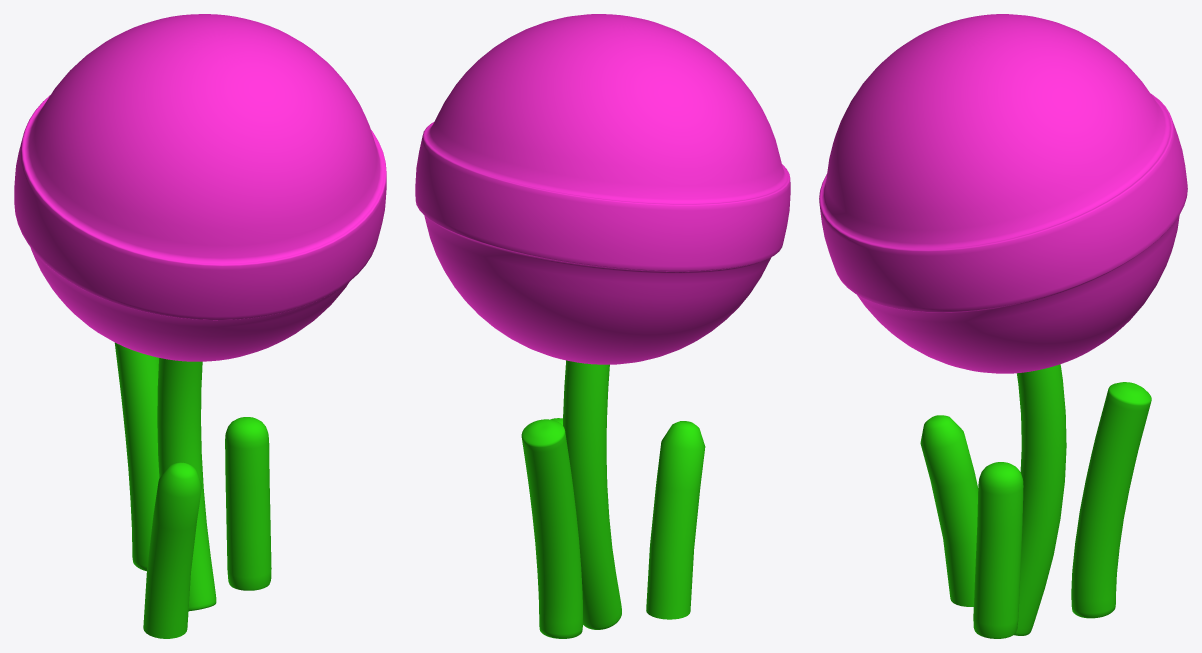
The model's file is hi_flower.fbx.
3 views of the same model, side by side, from view 1: azimuth 30°, elevation 25°; view 2: azimuth 150°, elevation 25°; view 3: azimuth 270°, elevation 25° (orthographic). The views are drawn at different scales.
Parts seen in each view (by area): view 1: Sphere001_hi, Loft004_hi; view 2: Sphere001_hi, Loft004_hi; view 3: Sphere001_hi, Loft004_hi.
Part boxes in pixels (<box>): Sphere001_hi: <box>14,14,386,361</box>; Loft004_hi: <box>114,342,271,638</box>; Sphere001_hi: <box>415,14,790,364</box>; Loft004_hi: <box>521,360,705,638</box>; Sphere001_hi: <box>819,14,1187,373</box>; Loft004_hi: <box>920,364,1151,638</box>.
Bounding box in the file's own units: 43 × 73.58 × 40.97.
